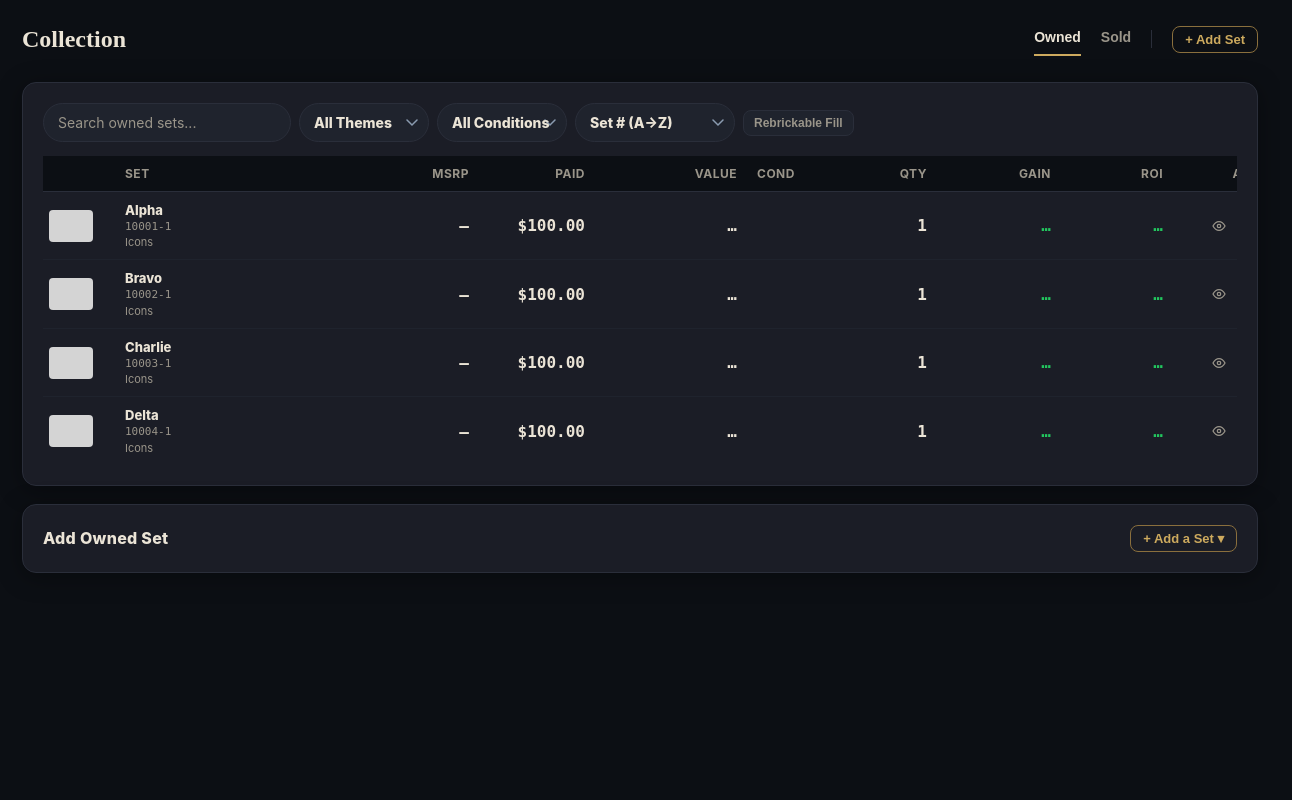
Test: Phase 3 selection — click-to-highlight › the selection band has NO 'Check All' checkbox — only Delete Selected (Ctrl/Cmd+A selects all)
Click the row "Alpha 10001-1 Icons — $100.00 … 1 … …". click: (662, 226)
box: [43,192,1280,260]
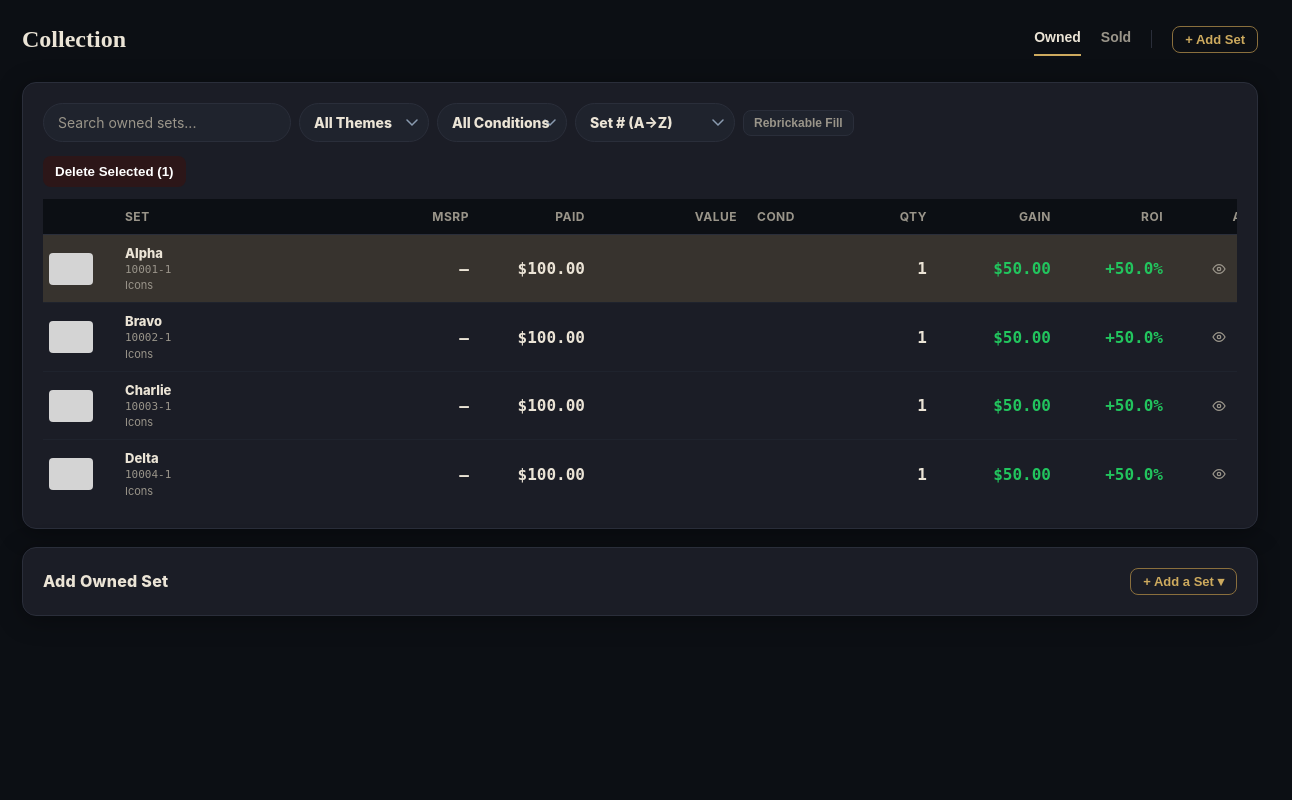
Check: the text "Delete Selected (1)" is shown, box [43,156,186,187]
